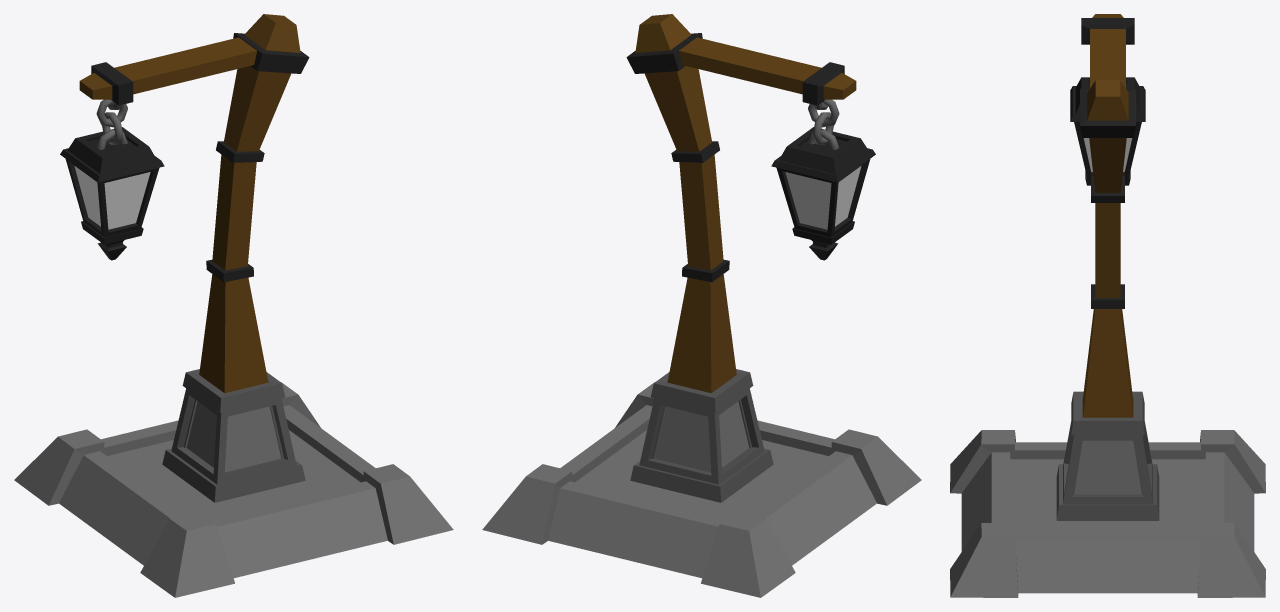
The model's file is Laterne.fbx.
The picture shows the model from 3 angles, left to right: view 1: azimuth 30°, elevation 25°; view 2: azimuth 150°, elevation 25°; view 3: azimuth 270°, elevation 25°; orthographic projection. The views are drawn at different scales.
Parts seen in each view (by area): view 1: Cube, Cube.001, Cube.002; view 2: Cube, Cube.001, Cube.002; view 3: Cube.001, Cube.
Part boxes in pixels (x1,y1,x2,y2): Cube: (60, 14, 309, 502); Cube.001: (14, 382, 453, 597); Cube.002: (74, 166, 150, 229); Cube: (626, 14, 875, 502); Cube.001: (482, 382, 921, 597); Cube.002: (785, 166, 861, 229); Cube.001: (950, 430, 1265, 597); Cube: (1056, 14, 1159, 520).
Size of the model in its own units: 226 by 215 by 351.
